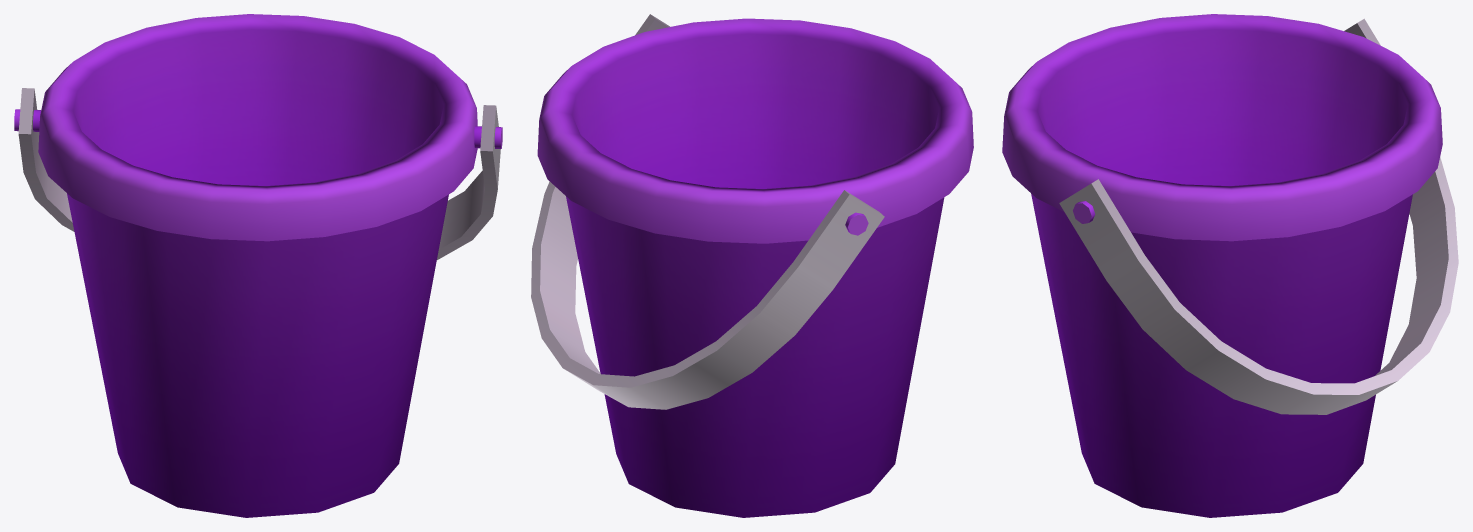
The model's file is Bucket.fbx.
3 renders of one model, left to right at view 1: azimuth 30°, elevation 25°; view 2: azimuth 150°, elevation 25°; view 3: azimuth 270°, elevation 25°, orthographic.
Visible parts, largest first — view 1: Bucket; view 2: Bucket; view 3: Bucket.
Part boxes in pixels (x1,y1,x2,y2): Bucket: [14, 14, 502, 517]; Bucket: [531, 14, 973, 517]; Bucket: [1002, 14, 1458, 517].
Size of the model in its own units: 2524 by 2132 by 2457.
Materials: 1 (1 with a texture image).
